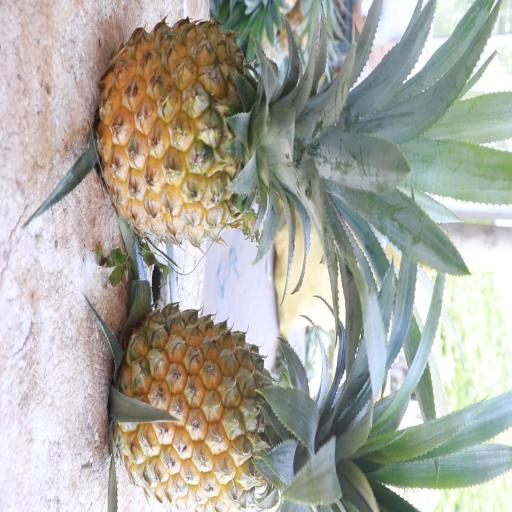Pineapple - v8 v1: (94, 14, 332, 251), (111, 298, 350, 512)
